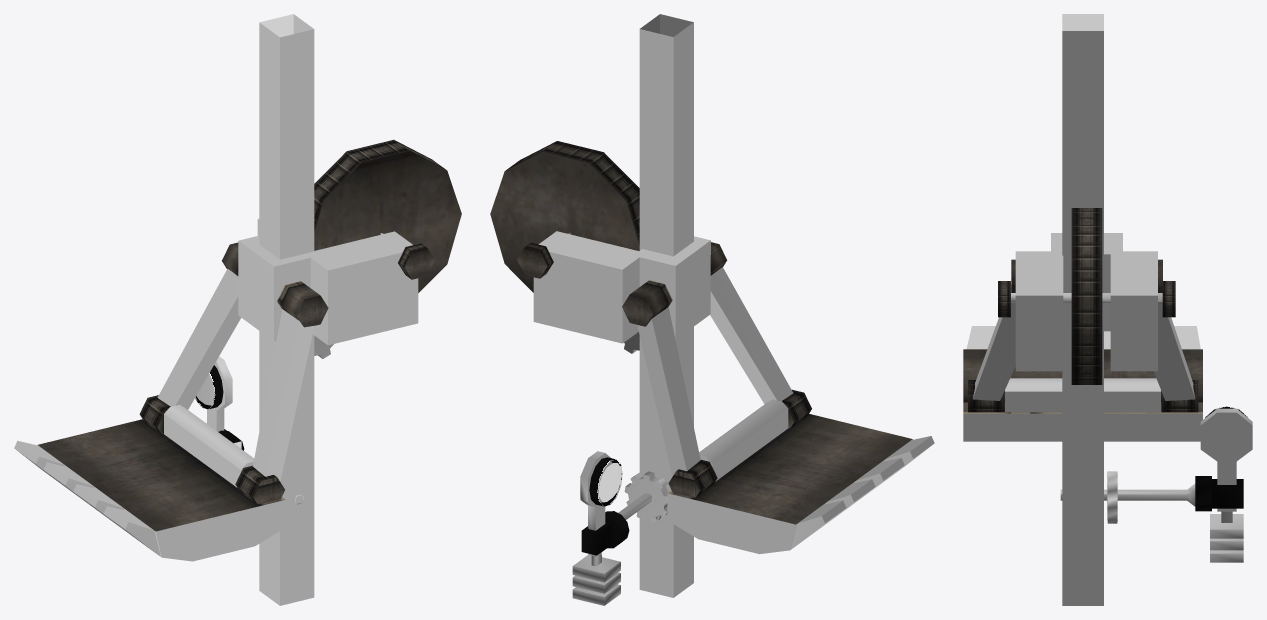
The model's file is Elevator_Platform.fbx.
3 views of the same model, side by side, from view 1: azimuth 30°, elevation 25°; view 2: azimuth 150°, elevation 25°; view 3: azimuth 270°, elevation 25° (orthographic). The views are drawn at different scales.
Parts seen in each view (by area): view 1: Mesh_0191.rip, Mesh_0192.rip, Mesh_0189.rip, Mesh_0195.rip, Mesh_0196.rip; view 2: Mesh_0191.rip, Mesh_0192.rip, Mesh_0189.rip, Mesh_0195.rip, Mesh_0196.rip, Mesh_0197.rip, Mesh_0194.rip; view 3: Mesh_0191.rip, Mesh_0189.rip, Mesh_0192.rip, Mesh_0195.rip, Mesh_0197.rip, Mesh_0196.rip.
Part boxes in pixels (<box>): Mesh_0191.rip: <box>14,218,418,561</box>; Mesh_0192.rip: <box>38,139,461,531</box>; Mesh_0189.rip: <box>259,14,314,605</box>; Mesh_0195.rip: <box>207,356,232,431</box>; Mesh_0196.rip: <box>195,365,244,450</box>; Mesh_0191.rip: <box>533,231,934,554</box>; Mesh_0192.rip: <box>490,141,912,524</box>; Mesh_0189.rip: <box>639,14,693,597</box>; Mesh_0195.rip: <box>572,451,620,605</box>; Mesh_0196.rip: <box>581,457,629,555</box>; Mesh_0197.rip: <box>618,471,668,521</box>; Mesh_0194.rip: <box>599,463,621,502</box>; Mesh_0191.rip: <box>963,233,1202,441</box>; Mesh_0189.rip: <box>1062,14,1103,605</box>; Mesh_0192.rip: <box>963,208,1202,413</box>; Mesh_0195.rip: <box>1200,408,1252,562</box>; Mesh_0197.rip: <box>1060,471,1195,523</box>; Mesh_0196.rip: <box>1195,406,1248,511</box>.
Size of the model in its own units: 1950 by 2745 by 1251.
